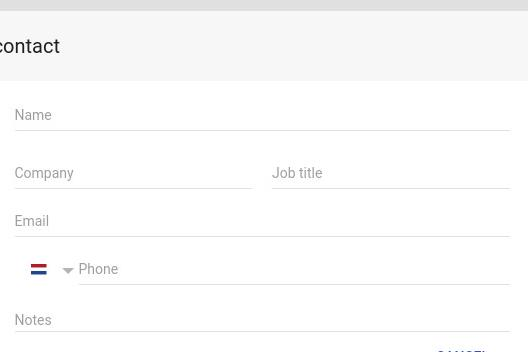field_line: (9, 100, 517, 137), (10, 210, 515, 240), (75, 259, 511, 288), (11, 309, 512, 334), (8, 159, 259, 192), (269, 160, 512, 193)
